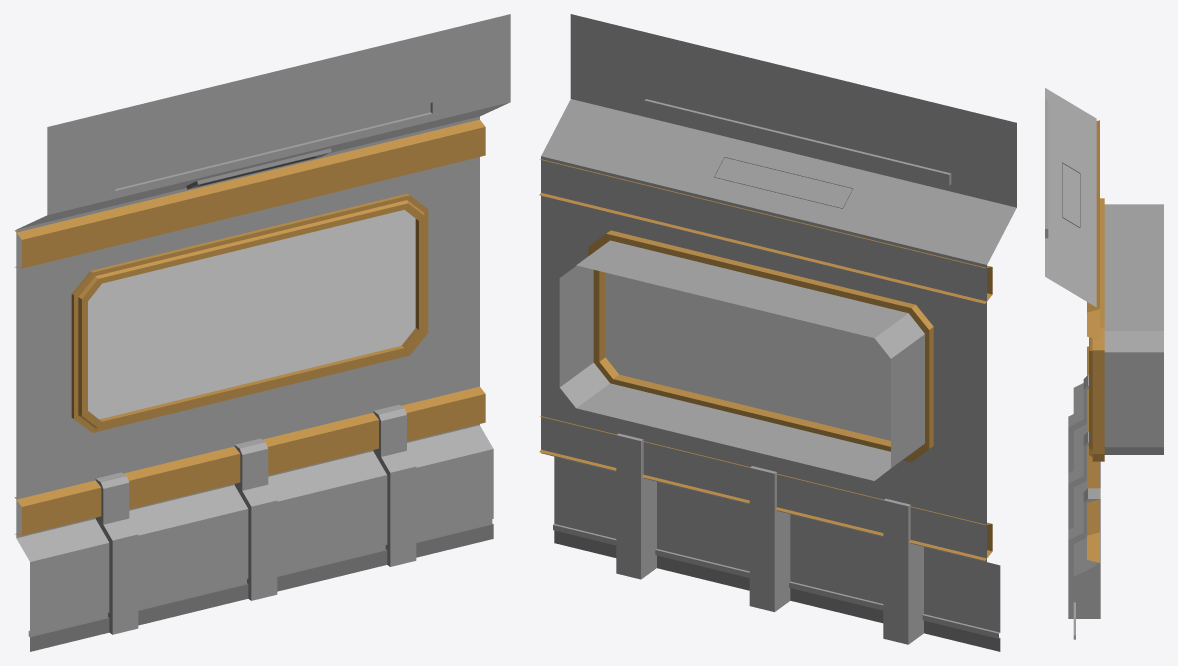
The model's file is Window_Wall_SideA.glb.
3 views of the same model, side by side, from view 1: azimuth 30°, elevation 25°; view 2: azimuth 150°, elevation 25°; view 3: azimuth 270°, elevation 25° (orthographic). The views are drawn at different scales.
Visible parts, largest first — view 1: Window_Wall_SideA; view 2: Window_Wall_SideA; view 3: Window_Wall_SideA.
Boxes of the visible parts, x1,y1,x2,y2 form: Window_Wall_SideA: (14,14,510,651); Window_Wall_SideA: (539,14,1016,651); Window_Wall_SideA: (1045,88,1163,639).
Size of the model in its own units: 4 by 4.43 by 1.06.
